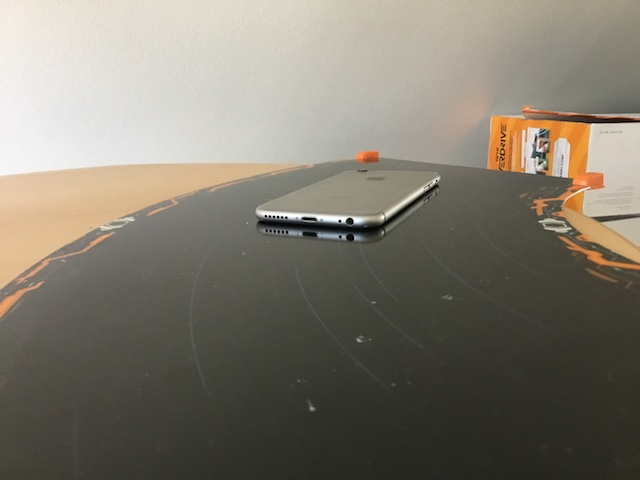phone: (254, 165, 443, 232)
